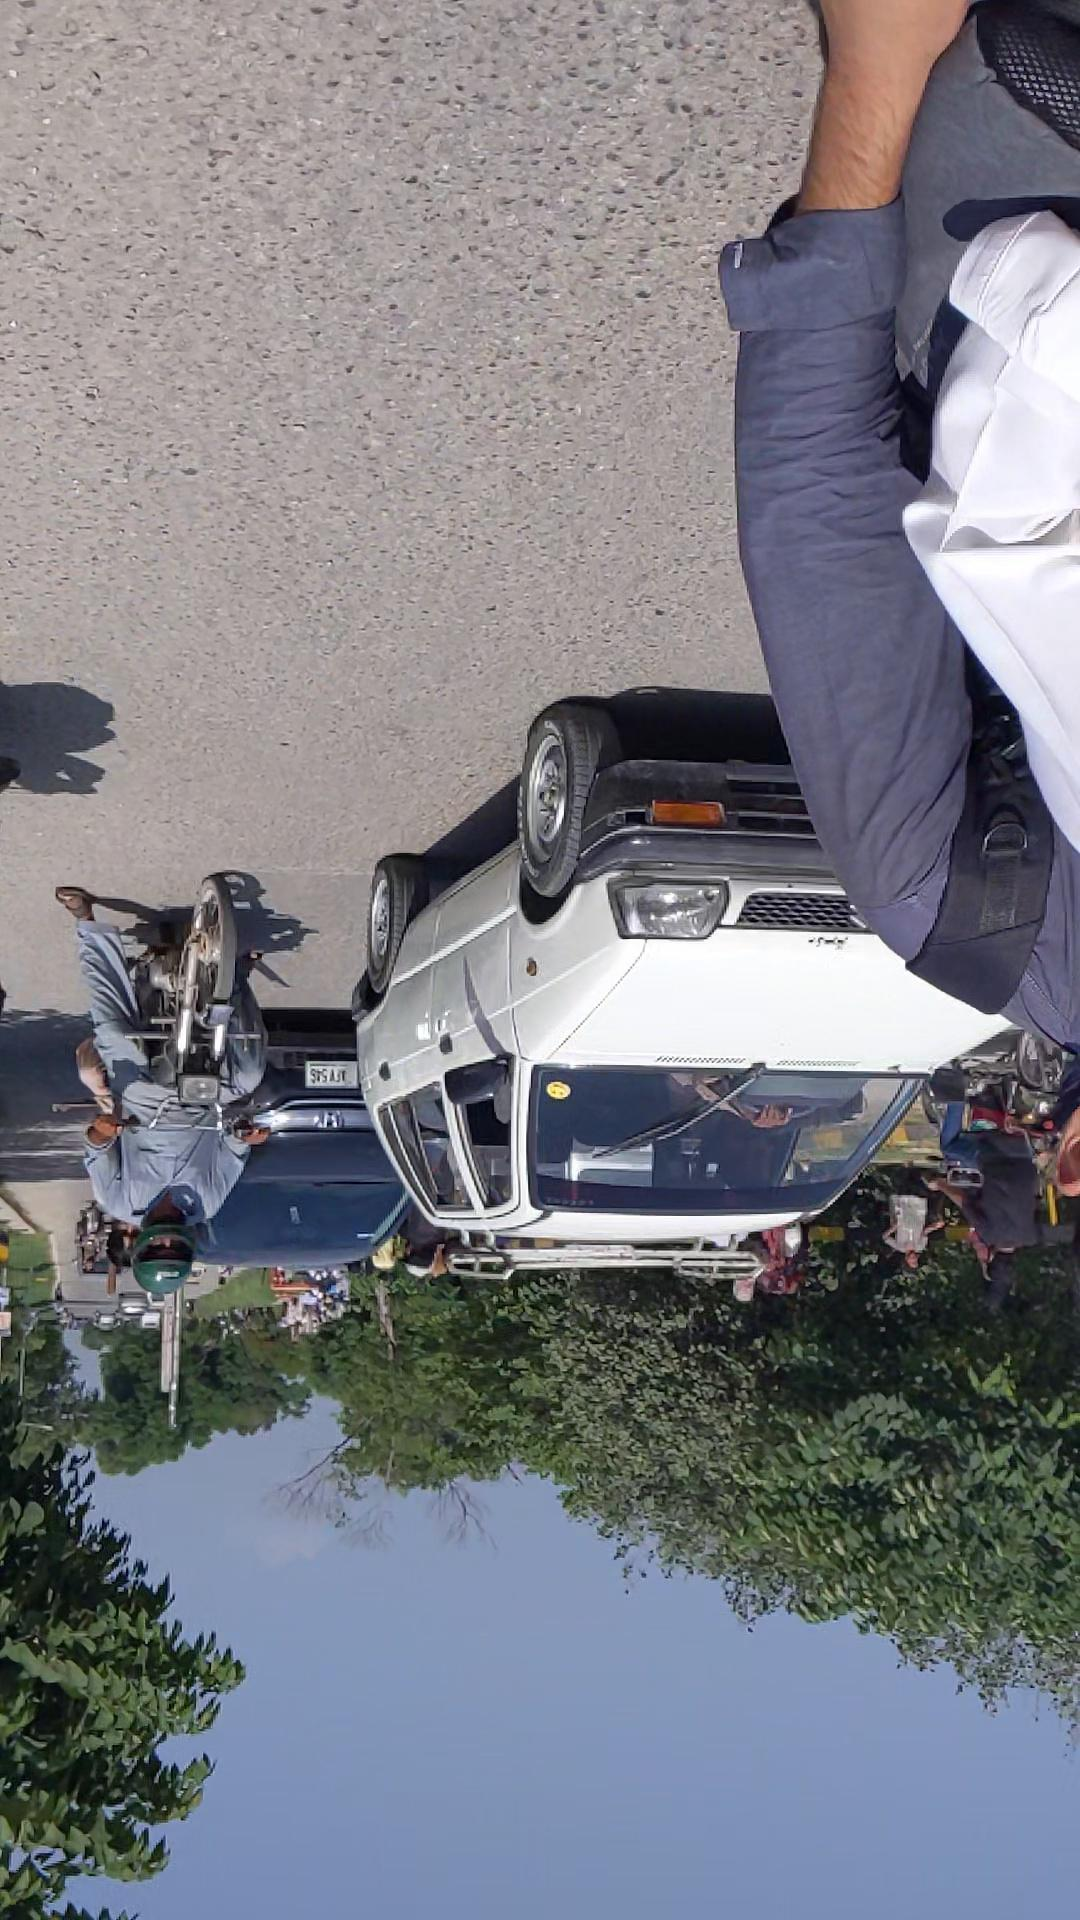windshield: (152, 695, 551, 870)
